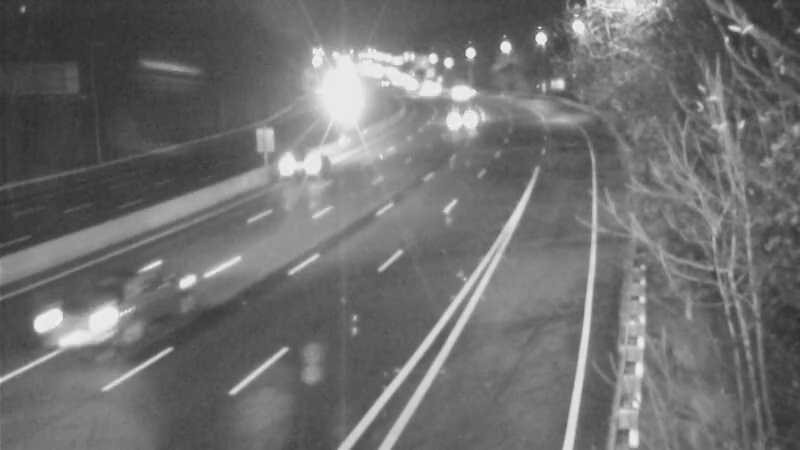vehicle: (23, 264, 133, 374), (269, 124, 349, 204), (427, 66, 477, 116), (434, 96, 484, 146)
